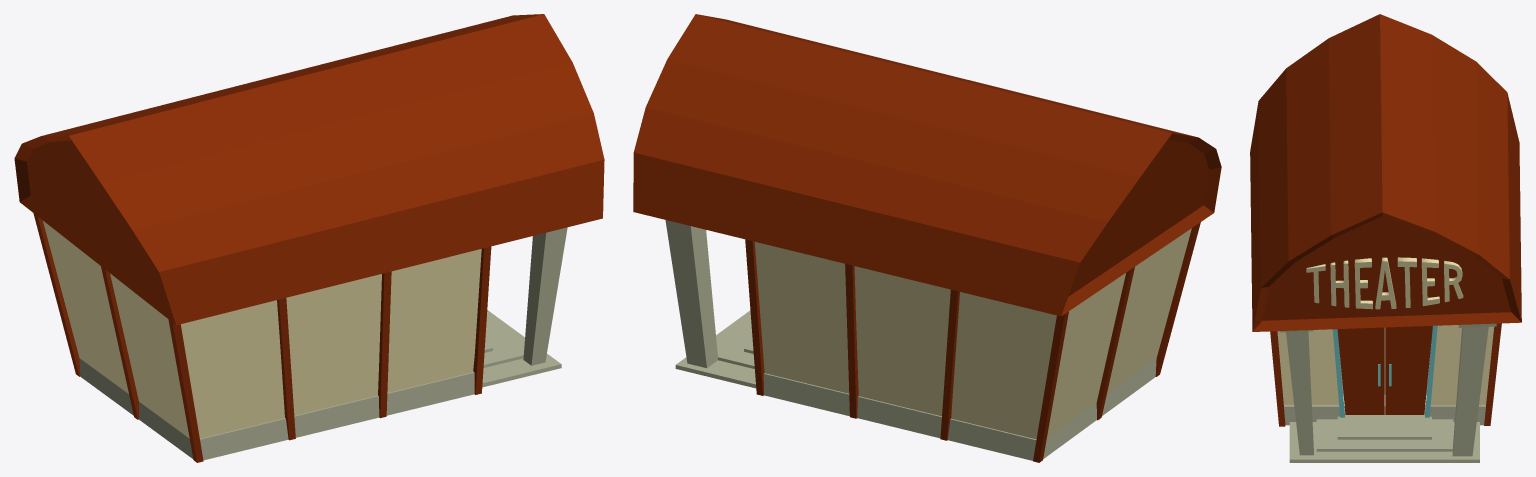
File: Theater.glb
3 views of the same model, side by side, from view 1: azimuth 30°, elevation 25°; view 2: azimuth 150°, elevation 25°; view 3: azimuth 270°, elevation 25° (orthographic). The views are drawn at different scales.
Visible parts, largest first — view 1: THEATER; view 2: THEATER; view 3: THEATER.
Part boxes in pixels (x1,y1,x2,y2): THEATER: [14, 14, 604, 462]; THEATER: [633, 14, 1221, 462]; THEATER: [1250, 14, 1521, 462].
Size of the model in its own units: 5.83 by 3.58 by 3.31.
